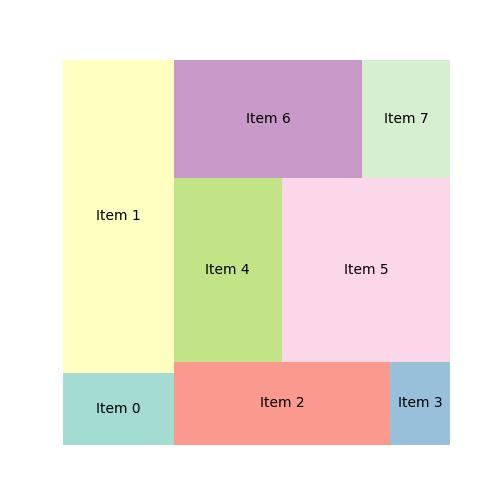rectangle: (64, 61, 174, 373), (282, 177, 450, 361), (175, 60, 363, 180), (173, 178, 282, 362), (174, 361, 391, 446), (363, 60, 449, 179), (63, 371, 174, 446), (391, 361, 450, 444)
